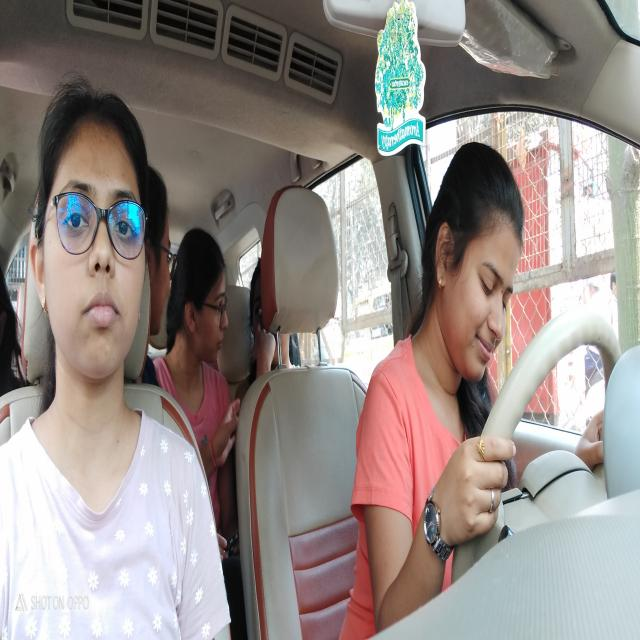drowsy: (430, 127, 530, 409)
person: (26, 69, 160, 396), (174, 209, 236, 403), (250, 253, 296, 374)
